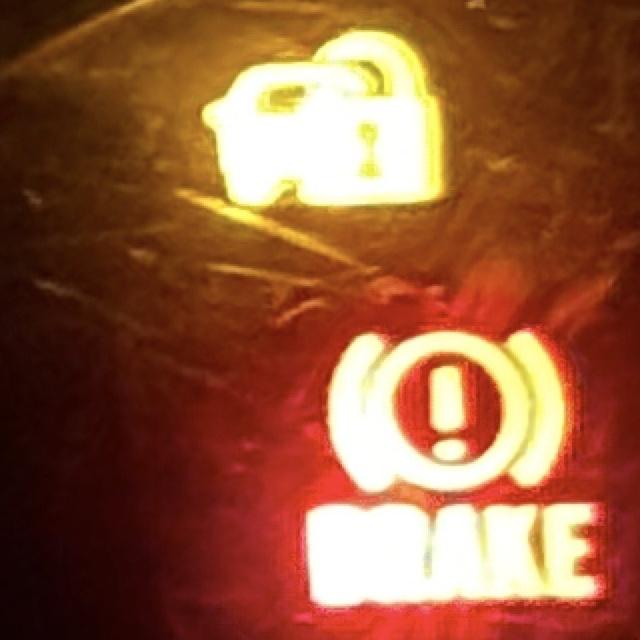Break System Issue: (301, 320, 609, 613)
Car SecurityWarning: (201, 24, 448, 214)
